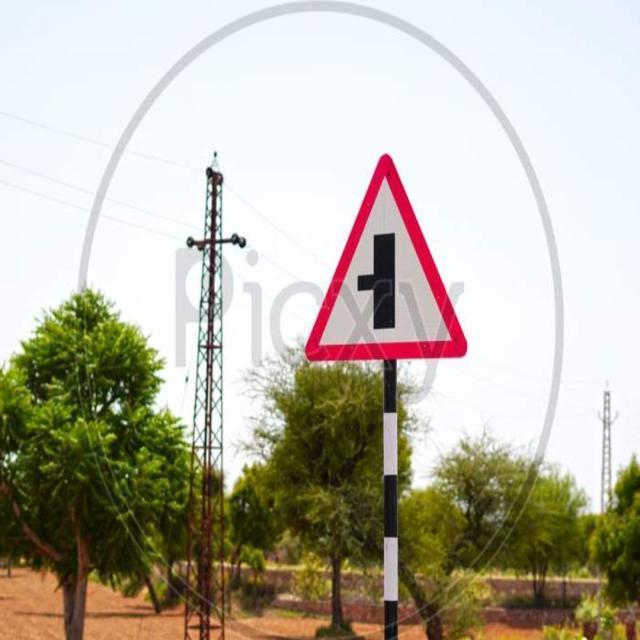side road left: (300, 153, 473, 362)
